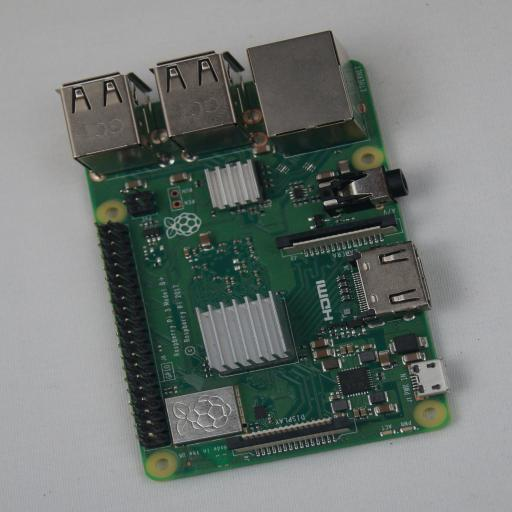Raspberry Pi 3 B-: (56, 30, 450, 482)
